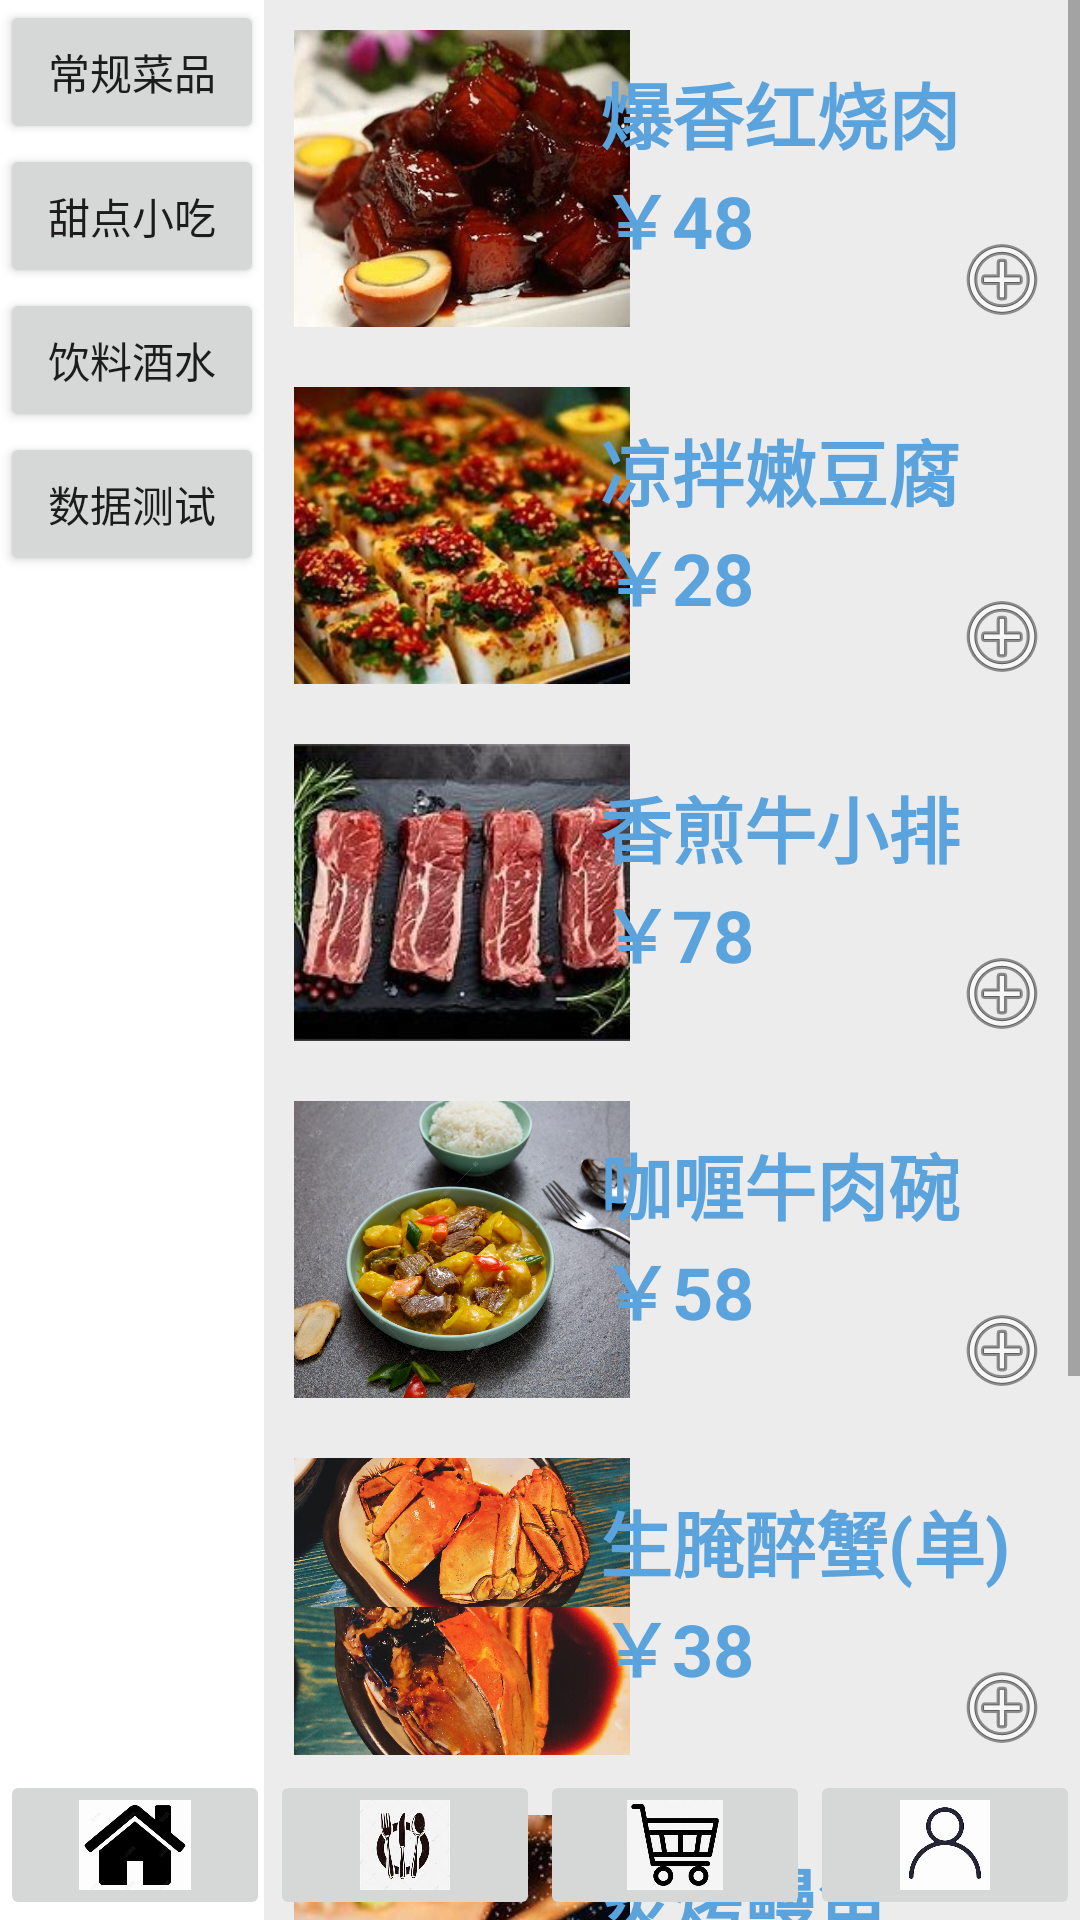

Where to tap for icons on this 1080*1920 app screen, as (x,y):
add: (1002,279), (1002,636), (1002,993), (1002,1350), (1002,1707)
